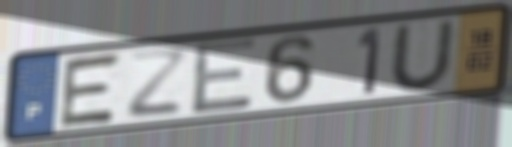1: (355, 24, 383, 98)
6: (262, 32, 318, 107)
E: (189, 34, 259, 118), (55, 49, 126, 130)
U: (387, 17, 458, 93)
Z: (124, 47, 191, 121)
